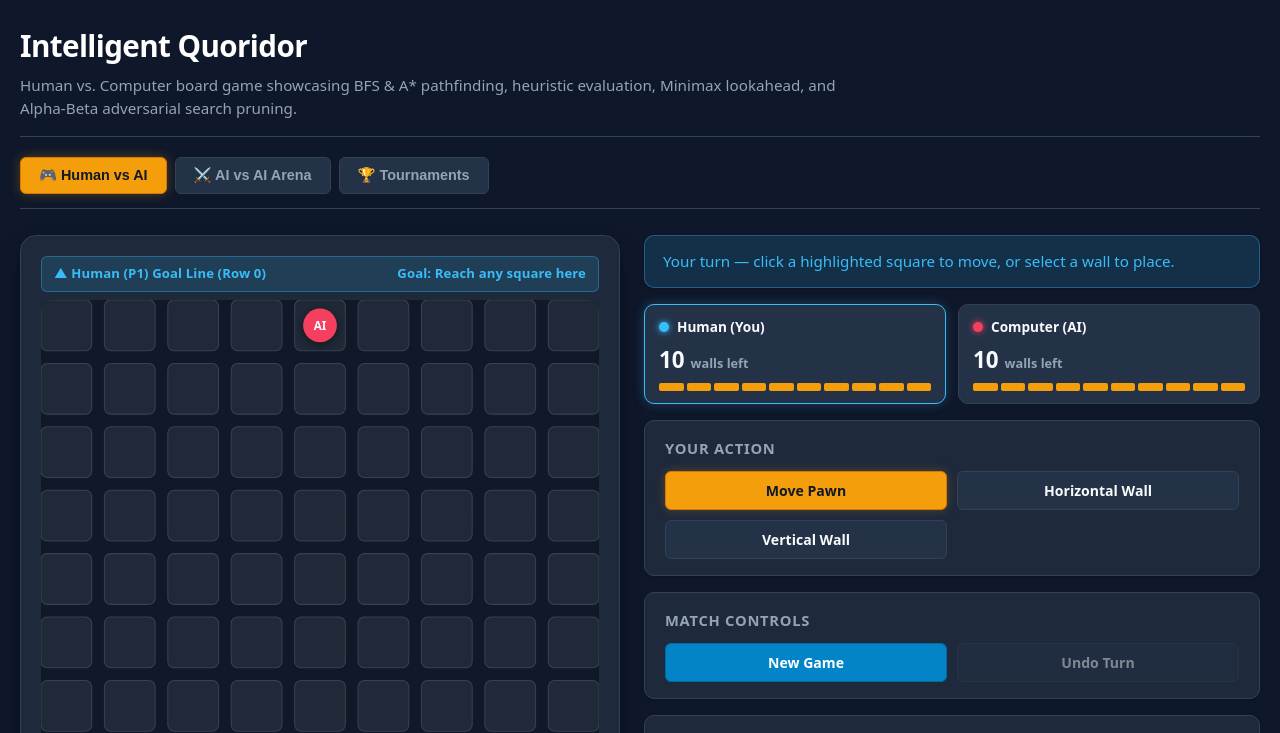
Test: Experimentation Platform: Navigation & Views › renders exactly three core mode tabs in App, asserts Heuristic Lab is absent, and switches between retained views
The width and height of the screenshot is (1280, 733).
Expected: the tab "🎮 Human vs AI" is shown, [20, 157, 167, 194]
Expected: the tab "🏆 Tournaments" is shown, [338, 157, 489, 194]
# Switch to Arena
What coordinates should you click on to do the following:
click the tab "⚔️ AI vs AI Arena"
I would click on:
 (253, 176)
Its box is [175, 157, 330, 194].
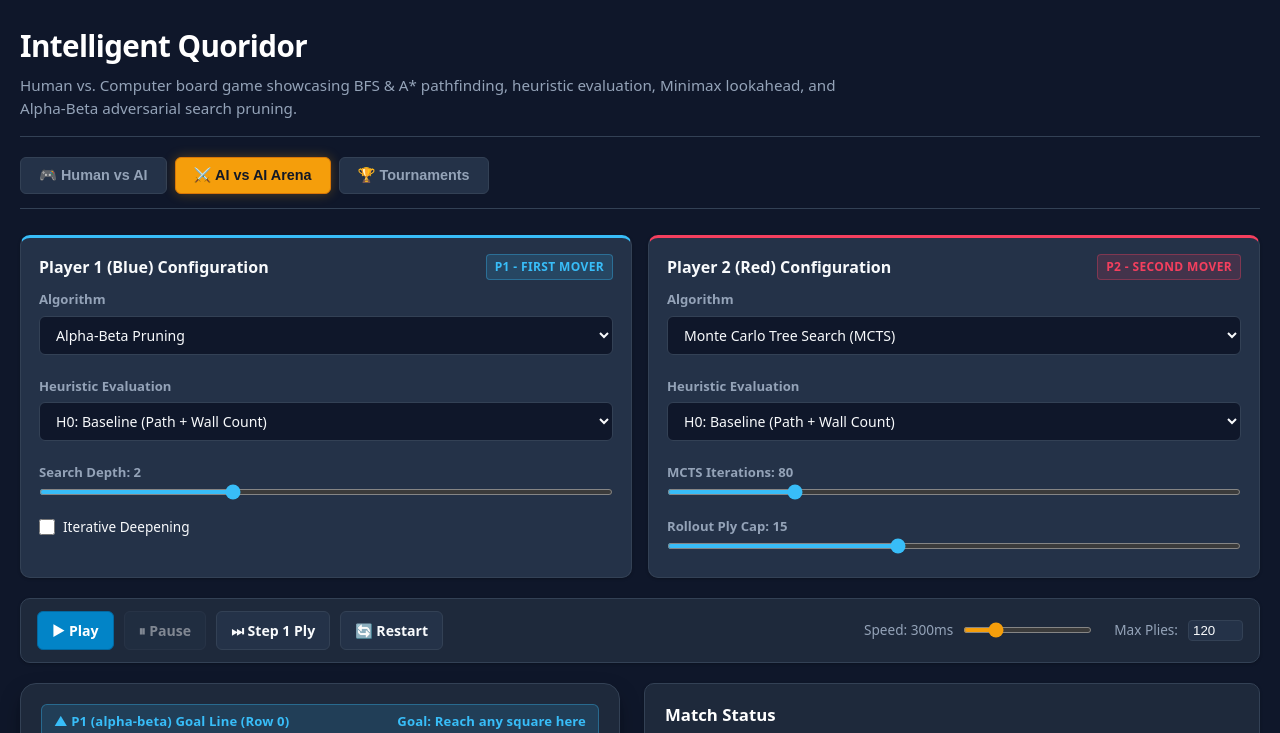
Now the heading "Player 1 (Blue) Configuration" is shown, box [39, 255, 269, 279]
Now the heading "Player 2 (Red) Configuration" is shown, box [667, 255, 891, 279]
# Switch to Tournaments
What coordinates should you click on to do the following:
click the tab "🏆 Tournaments"
I would click on:
 (414, 176)
Its box is [338, 157, 489, 194].
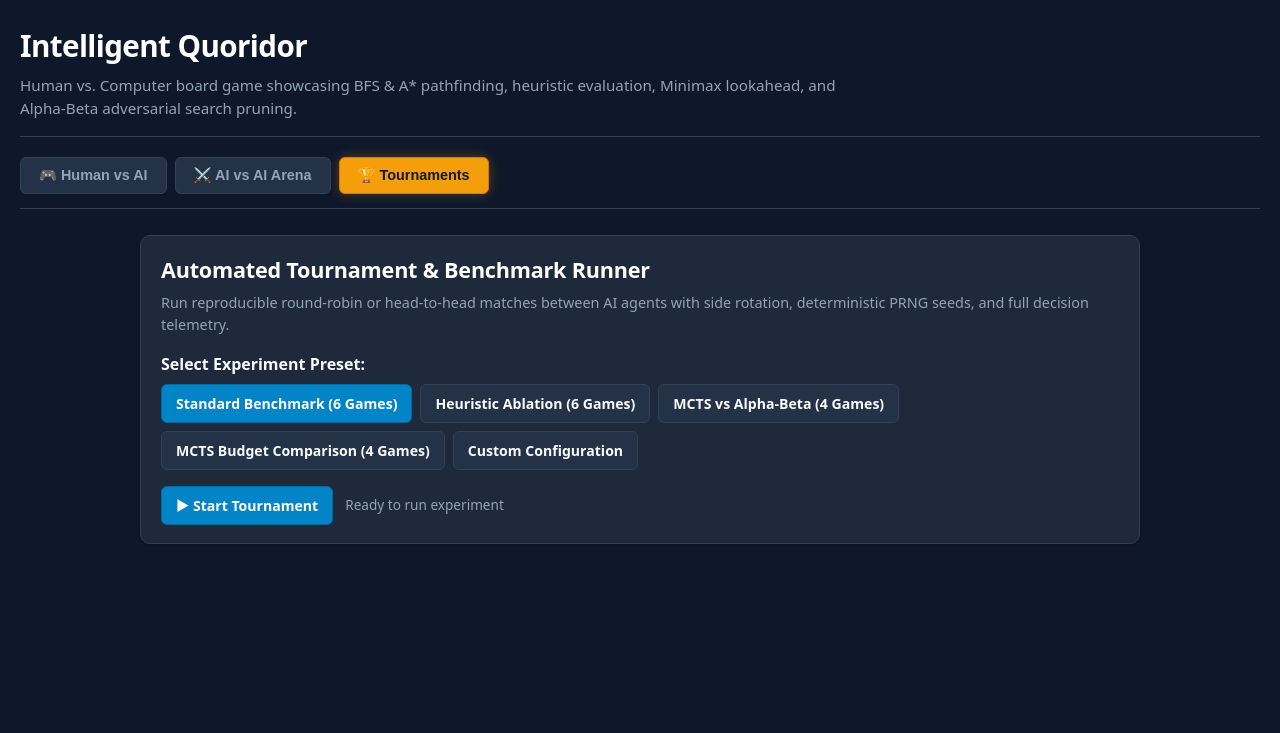
Now the heading "Automated Tournament & Benchmark Runner" is shown, box [161, 255, 650, 284]
# Switch back to Human vs AI
What coordinates should you click on to do the following:
click the tab "🎮 Human vs AI"
I would click on:
 (93, 176)
Its box is [20, 157, 167, 194].
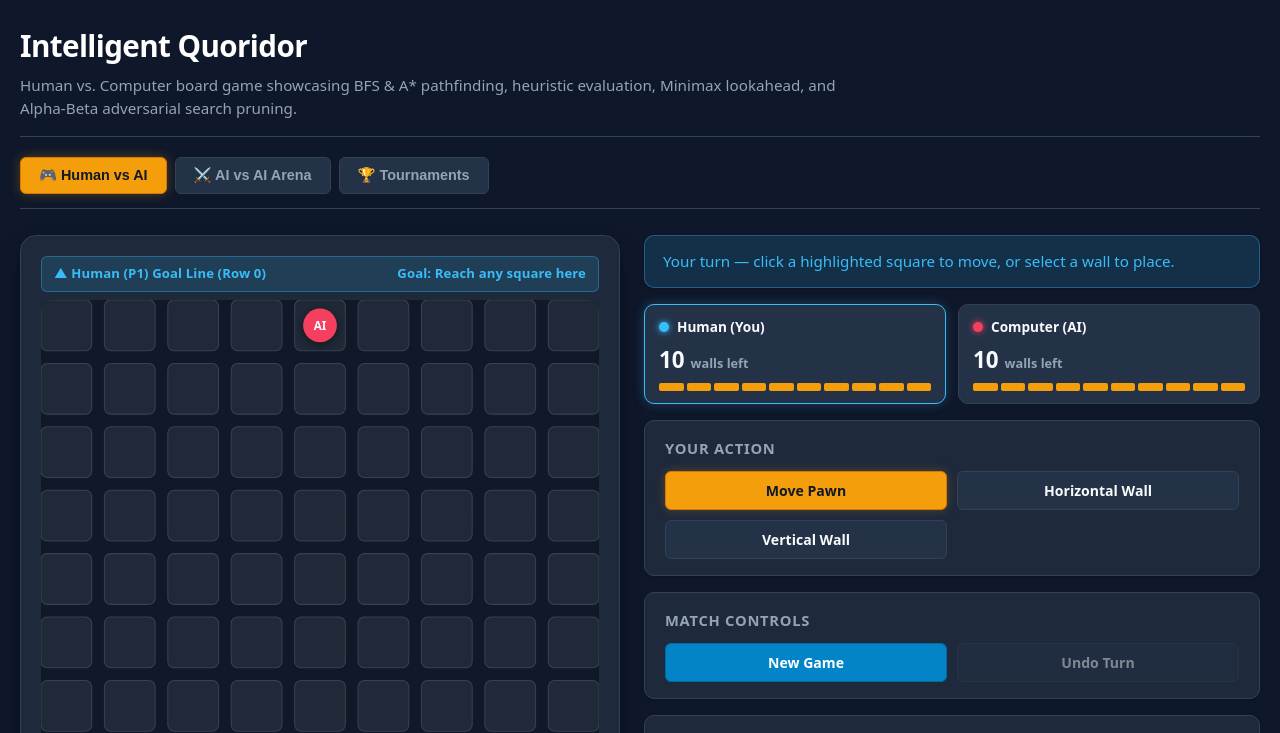
Now the text "Human (You)" is shown, box [677, 317, 765, 337]
